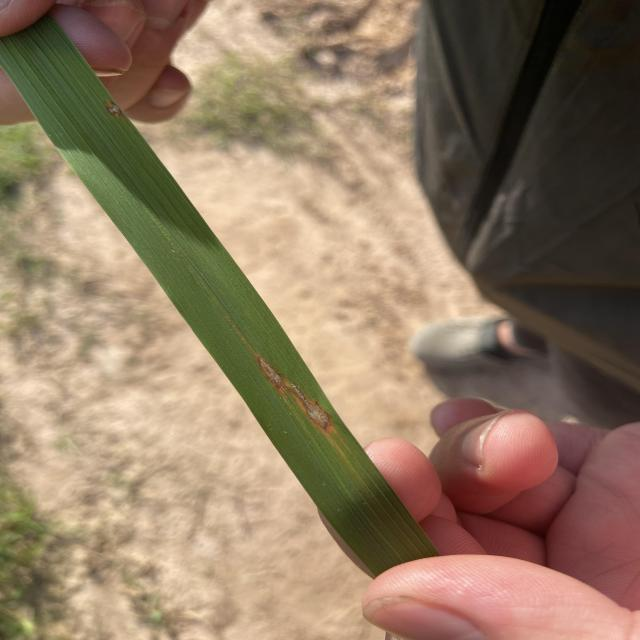Dao on: (291, 383, 331, 430), (259, 356, 285, 389), (104, 100, 124, 119)
